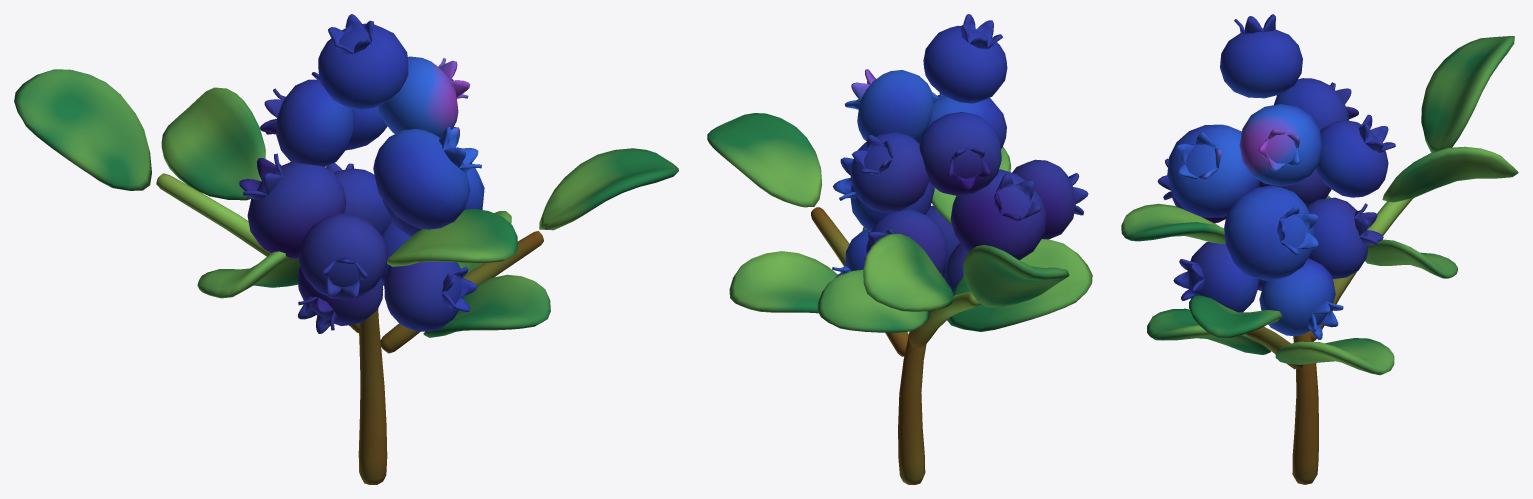
The model's file is BlueberryTree.fbx.
3 views of the same model, side by side, from view 1: azimuth 30°, elevation 25°; view 2: azimuth 150°, elevation 25°; view 3: azimuth 270°, elevation 25° (orthographic). The views are drawn at different scales.
Visible parts, largest first — view 1: BlueberryTree; view 2: BlueberryTree; view 3: BlueberryTree.
Part boxes in pixels (bbox=[...]): BlueberryTree: bbox=[14, 14, 678, 484]; BlueberryTree: bbox=[707, 14, 1092, 484]; BlueberryTree: bbox=[1121, 14, 1518, 484].
Size of the model in its own units: 0.3401 by 0.248 by 0.3105.
Materials: 1 (1 with a texture image).
